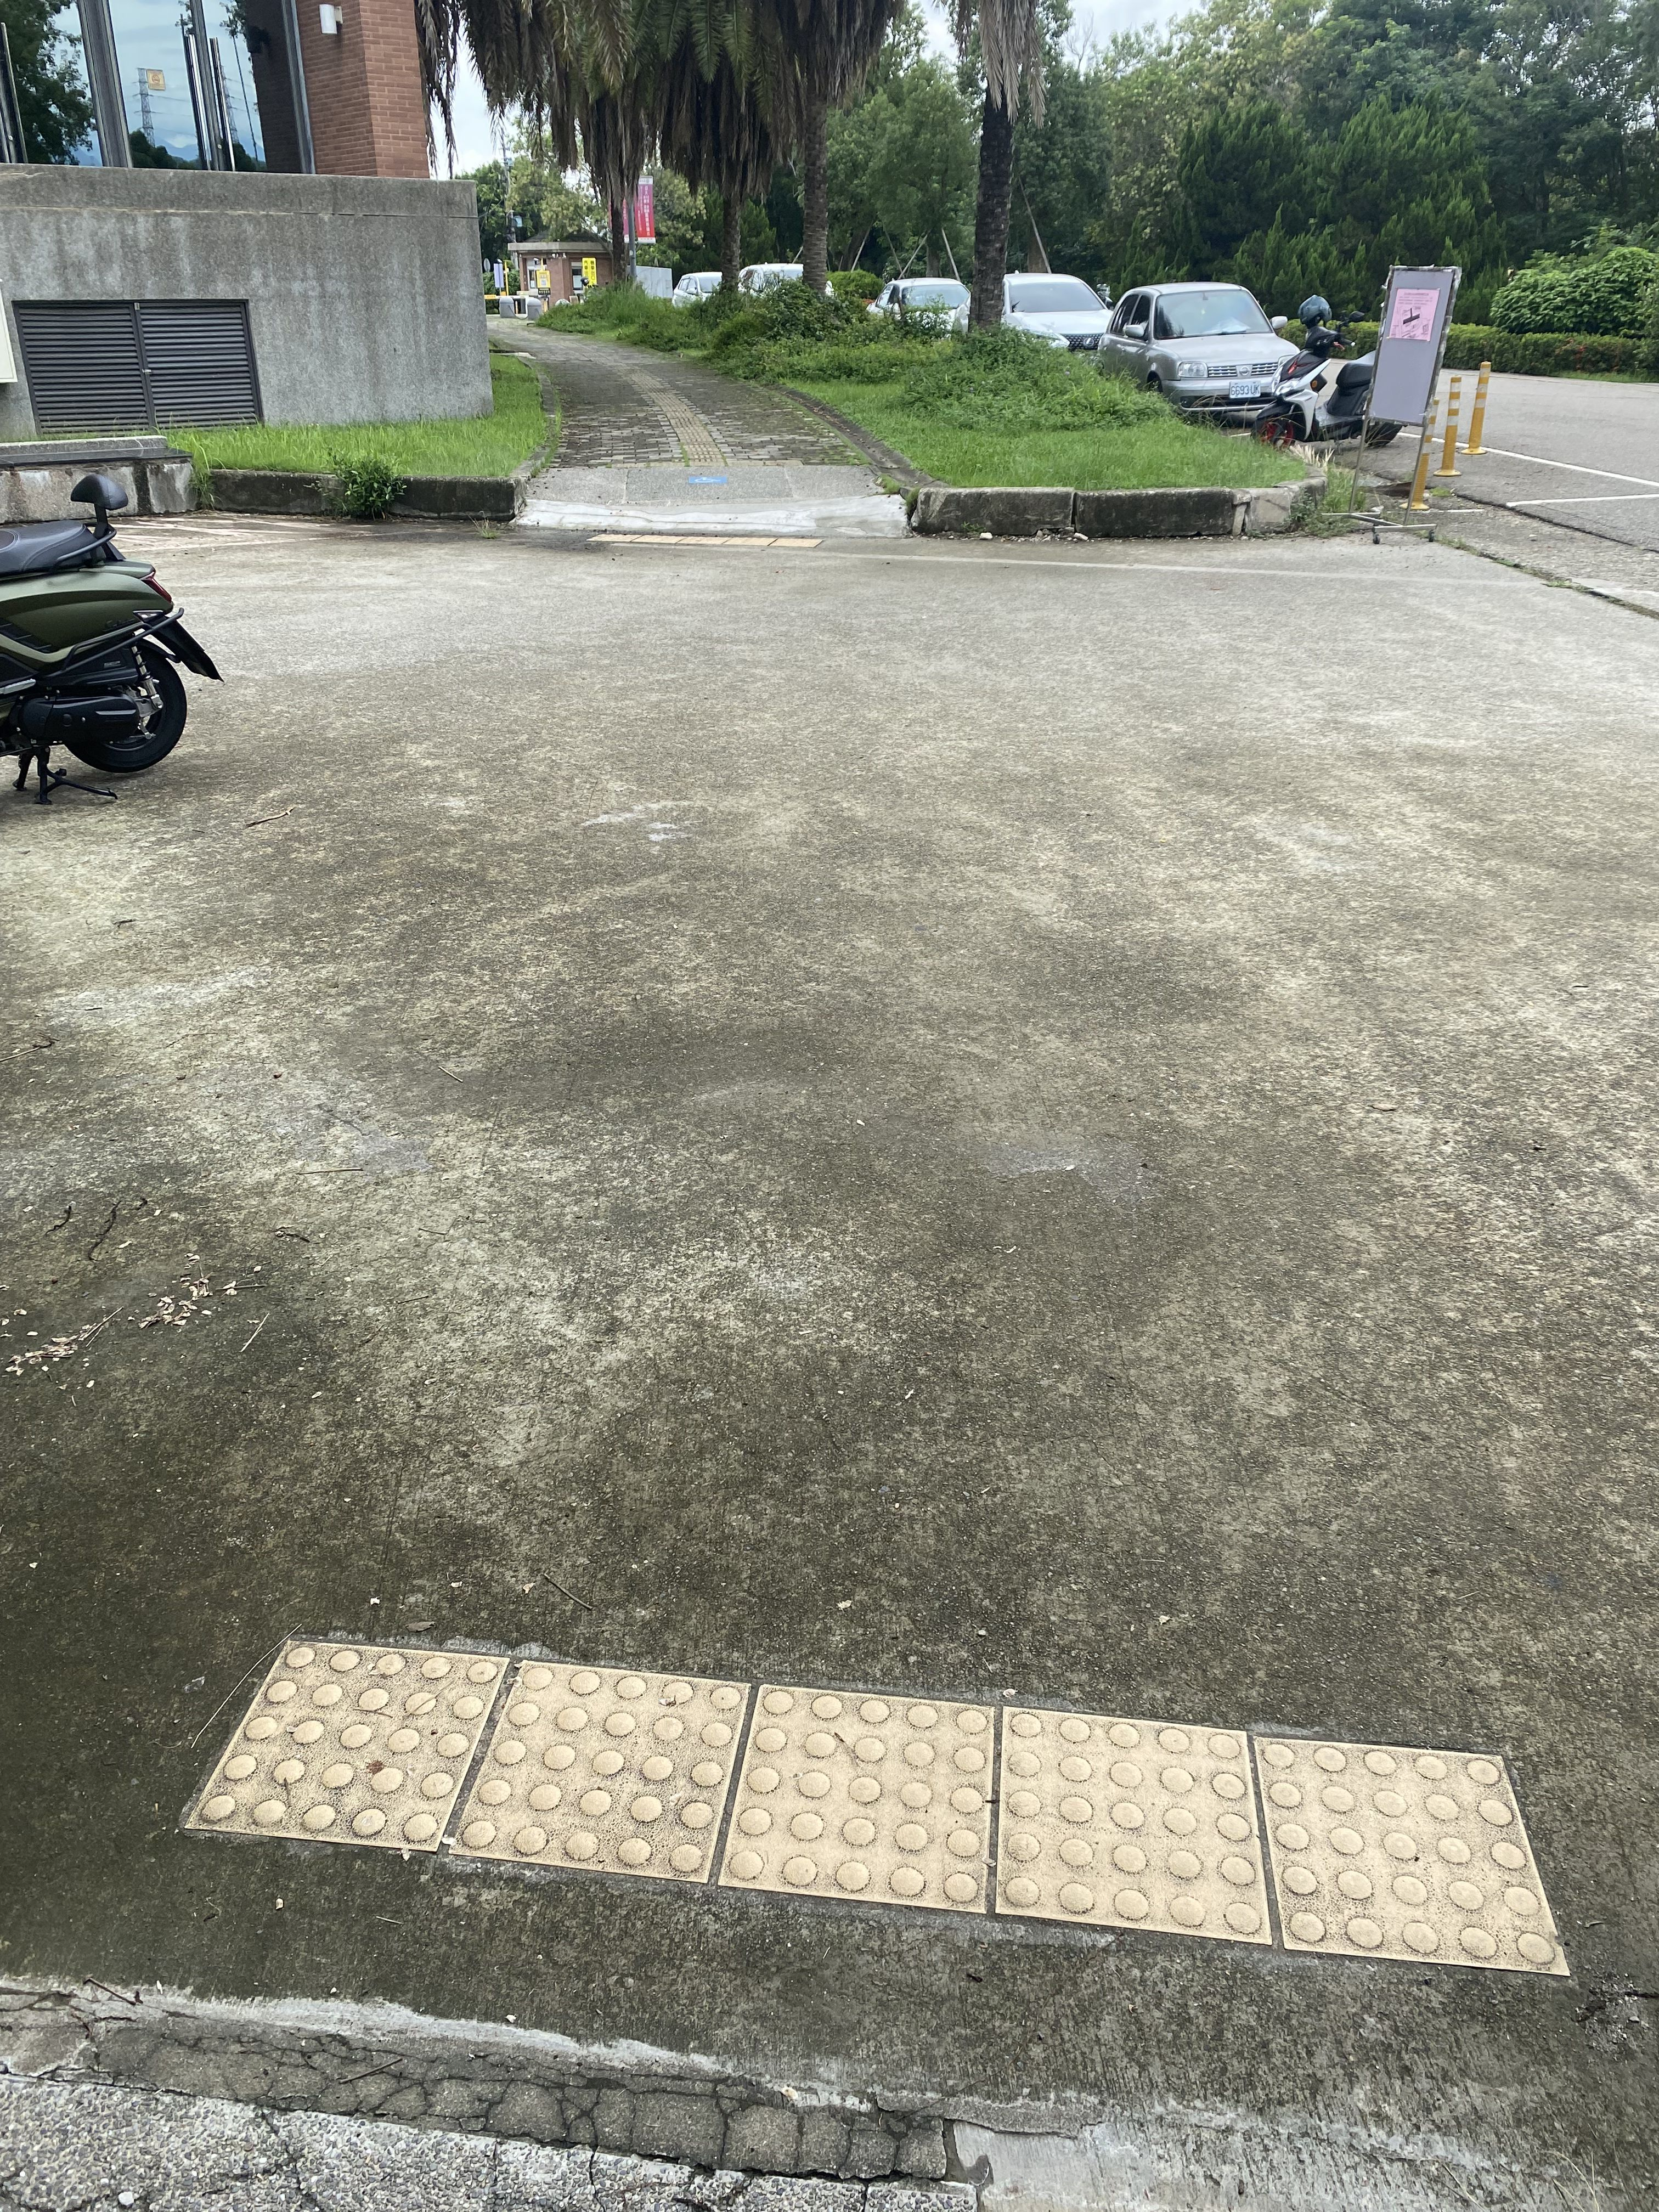0: (479, 312, 929, 577)
sidewalk: (3, 1550, 1659, 2212)
